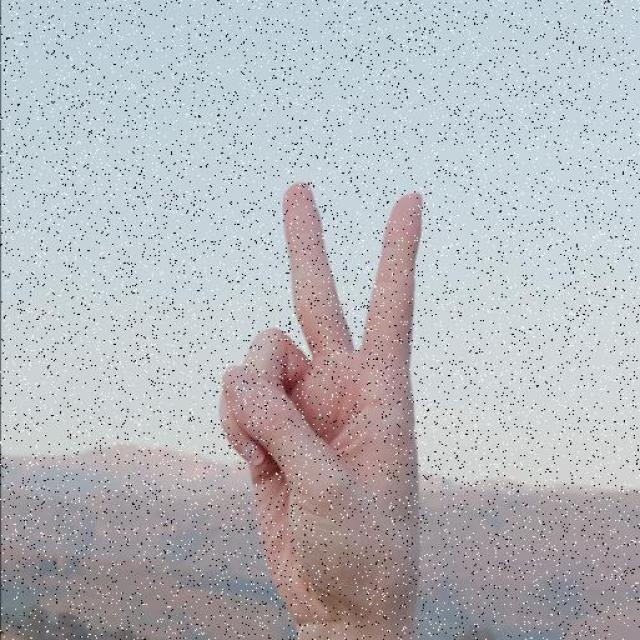V: (214, 174, 426, 630)
